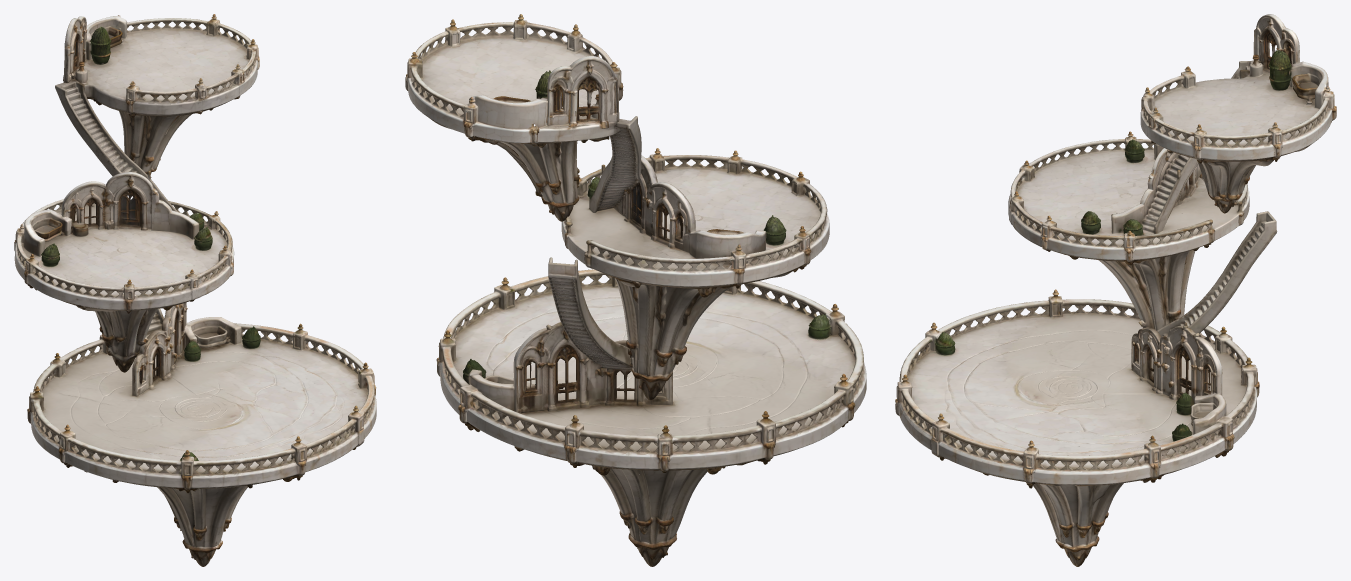
Rendered from floating_architecture.glb.
3 views of the same model, side by side, from view 1: azimuth 30°, elevation 25°; view 2: azimuth 150°, elevation 25°; view 3: azimuth 270°, elevation 25° (orthographic). The views are drawn at different scales.
Bounding box in the file's own units: 0.6405 × 0.9794 × 0.7389.
Materials: 1 (1 with a texture image).
